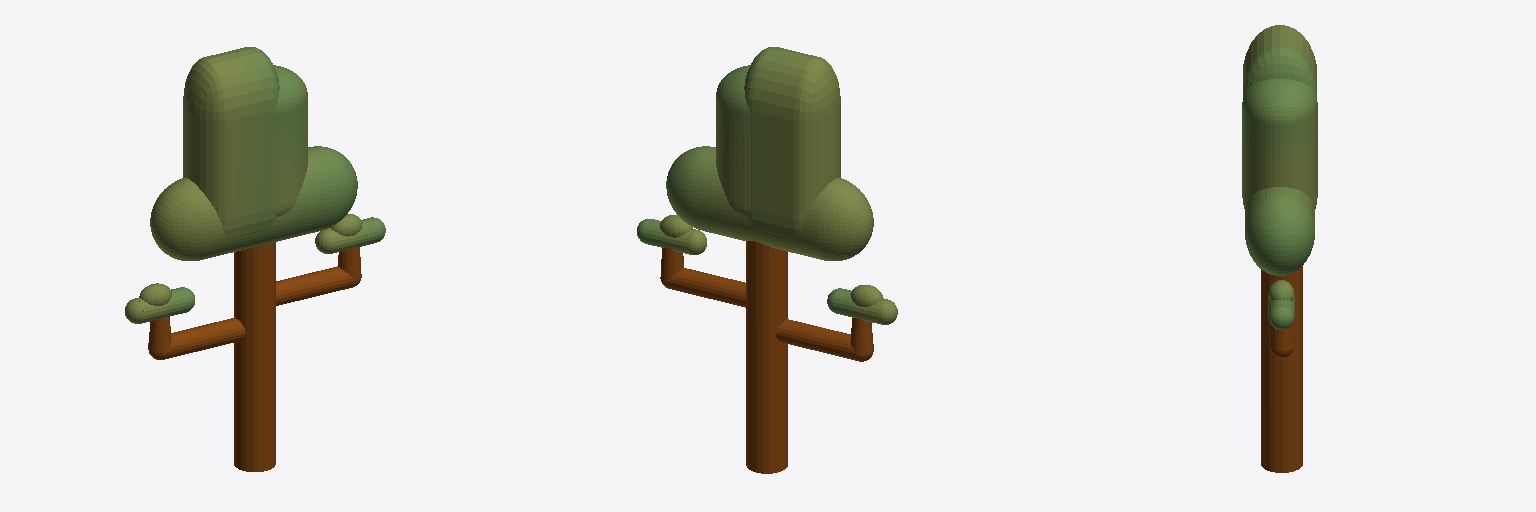
3 views of the same model, side by side, from view 1: azimuth 30°, elevation 25°; view 2: azimuth 150°, elevation 25°; view 3: azimuth 270°, elevation 25° (orthographic).
Visible parts, largest first — view 1: pCube3, pasted__pCylinder1 group8, arbusto1:pasted__polySurface2group2 group12, arbusto:pasted__polySurface2group2, pasted__pasted__pCylinder1 pasted__group6 group7, pasted__pCylinder1 group6, pasted__pasted__pasted__pCylinder1 pasted__pasted__group6 pasted, pasted__pasted__pCylinder1 pasted__group6 group9; view 2: pCube3, pasted__pCylinder1 group8, arbusto1:pasted__polySurface2group2 group12, arbusto:pasted__polySurface2group2, pasted__pasted__pCylinder1 pasted__group6 group7, pasted__pCylinder1 group6, pasted__pasted__pasted__pCylinder1 pasted__pasted__group6 pasted, pasted__pasted__pCylinder1 pasted__group6 group9; view 3: pCube3, pasted__pCylinder1 group8, arbusto:pasted__polySurface2group2.
Boxes of the visible parts, x1,y1,x2,y2 form: pCube3: [150, 47, 357, 260]; pasted__pCylinder1 group8: [234, 242, 275, 471]; arbusto1:pasted__polySurface2group2 group12: [125, 283, 194, 323]; arbusto:pasted__polySurface2group2: [315, 214, 385, 253]; pasted__pasted__pCylinder1 pasted__group6 group7: [164, 318, 245, 359]; pasted__pCylinder1 group6: [276, 266, 354, 305]; pasted__pasted__pasted__pCylinder1 pasted__pasted__group6 pasted: [148, 317, 171, 352]; pasted__pasted__pCylinder1 pasted__group6 group9: [338, 247, 360, 280]; pCube3: [666, 47, 873, 260]; pasted__pCylinder1 group8: [746, 241, 787, 473]; arbusto1:pasted__polySurface2group2 group12: [827, 285, 897, 324]; arbusto:pasted__polySurface2group2: [637, 215, 706, 254]; pasted__pasted__pCylinder1 pasted__group6 group7: [776, 319, 856, 360]; pasted__pCylinder1 group6: [666, 268, 745, 307]; pasted__pasted__pasted__pCylinder1 pasted__pasted__group6 pasted: [850, 318, 873, 353]; pasted__pasted__pCylinder1 pasted__group6 group9: [660, 247, 683, 281]; pCube3: [1242, 25, 1317, 275]; pasted__pCylinder1 group8: [1261, 266, 1302, 472]; arbusto:pasted__polySurface2group2: [1268, 280, 1294, 329].
Size of the model in its own units: 3.99 by 6.15 by 1.01.
Materials: 4 (2 with a texture image).